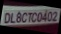character: (3, 12, 10, 23), (20, 12, 27, 23), (30, 11, 37, 22), (15, 11, 21, 23), (52, 11, 58, 22), (9, 13, 15, 23), (26, 12, 32, 22), (36, 12, 42, 22), (46, 11, 52, 21), (41, 11, 46, 22)
